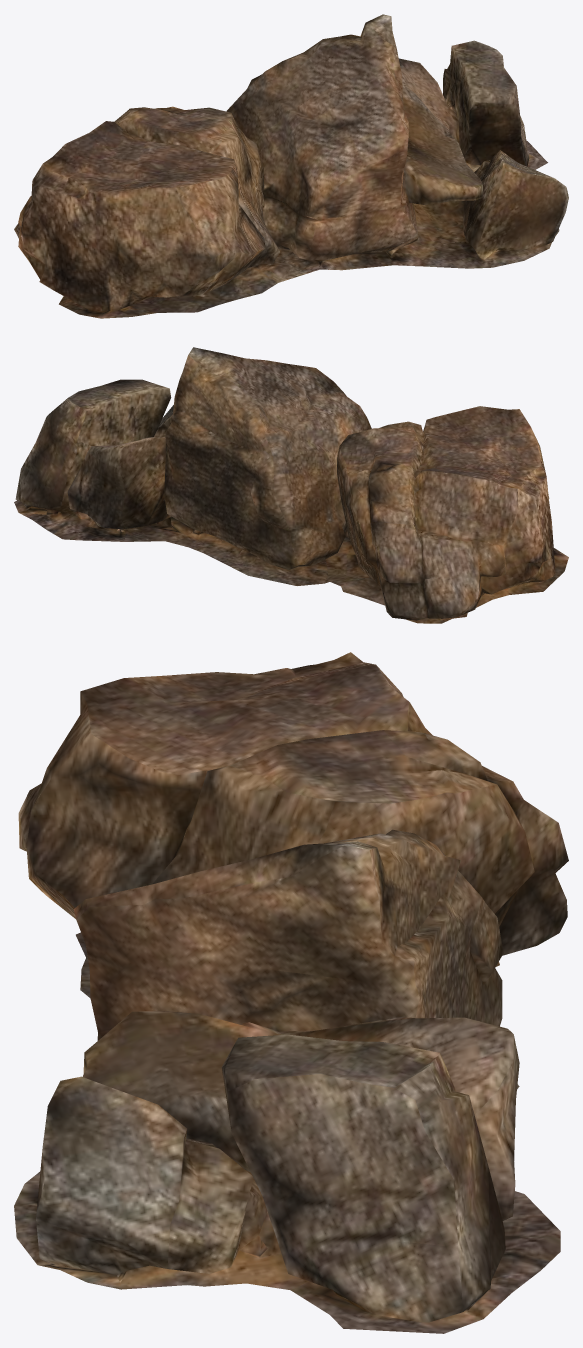
The model's file is boulder_b_lod0.glb.
3 renders of one model, top to bottom at view 1: azimuth 30°, elevation 25°; view 2: azimuth 150°, elevation 25°; view 3: azimuth 270°, elevation 25°, orthographic. The views are drawn at different scales.
Visible parts, largest first — view 1: boulder_02; view 2: boulder_02; view 3: boulder_02.
Boxes of the visible parts, left/top/right/bottom form: boulder_02: left=14, top=14, right=568, bottom=318; boulder_02: left=14, top=347, right=568, bottom=623; boulder_02: left=14, top=652, right=568, bottom=1333.
Size of the model in its own units: 2.51 by 0.8788 by 1.23.
Materials: 1 (1 with a texture image).
